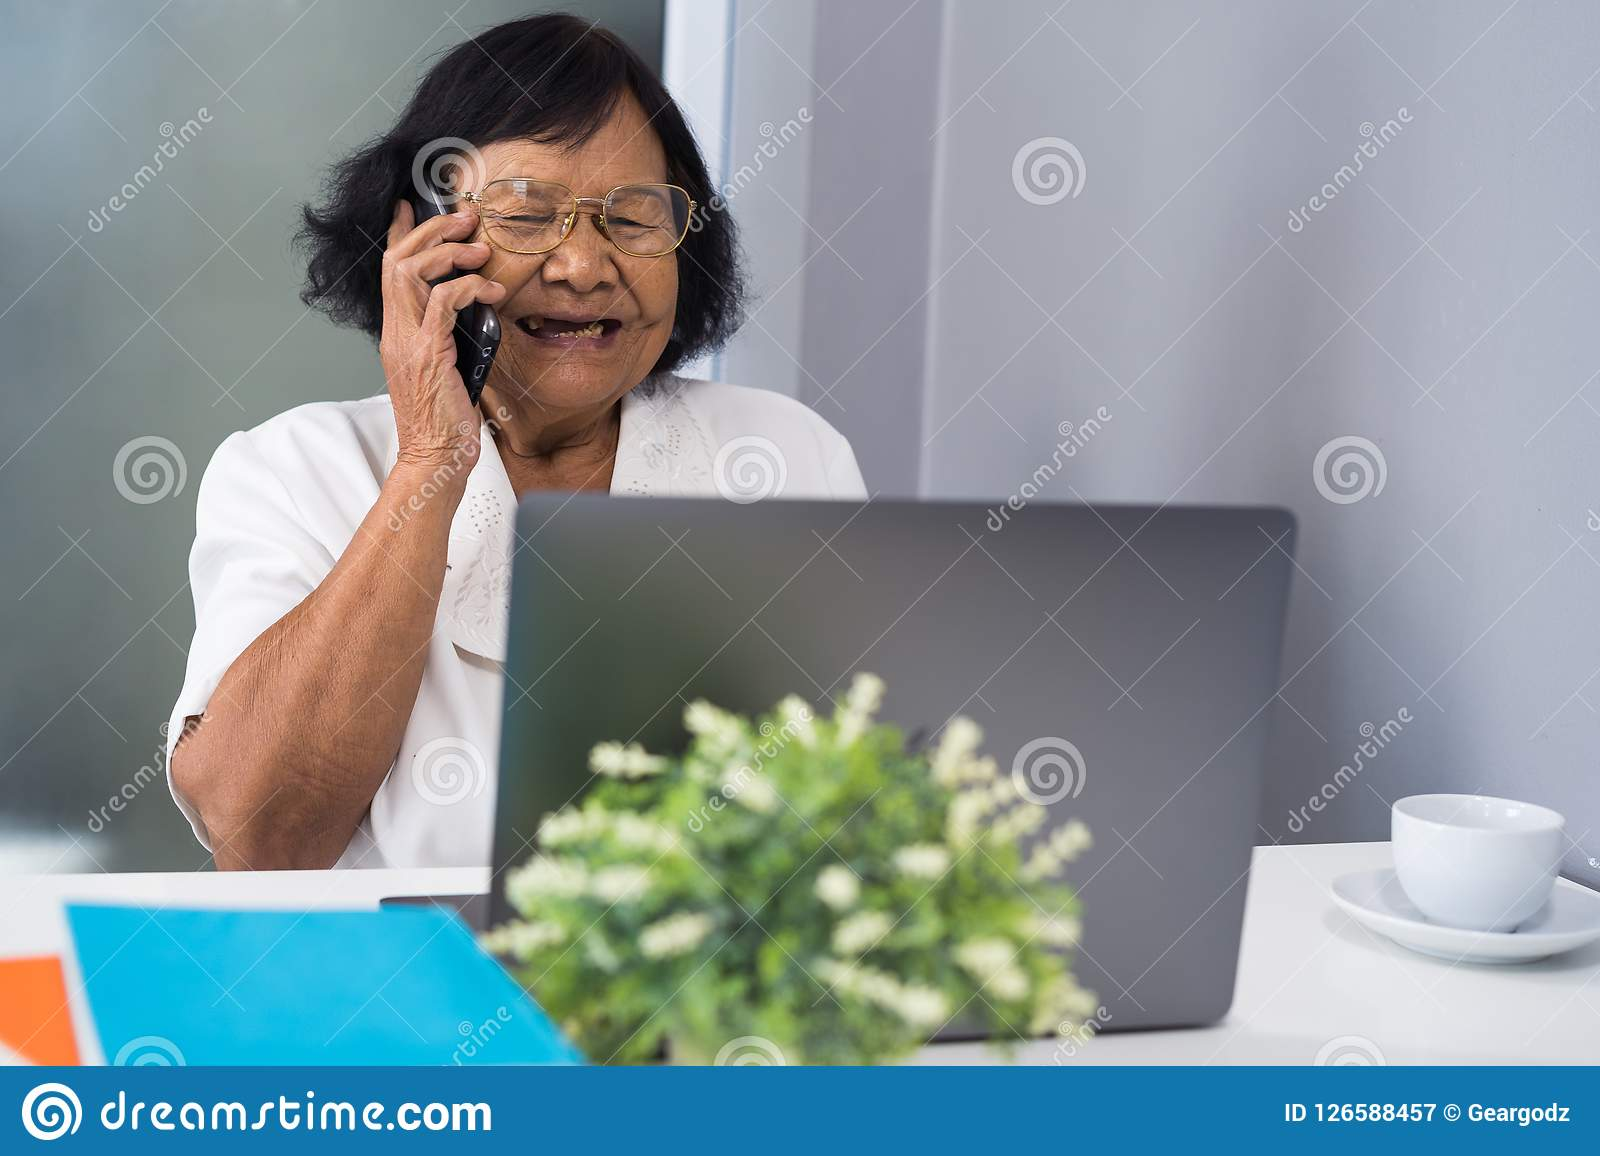phone: (412, 180, 502, 411)
talk: (381, 161, 680, 487)
